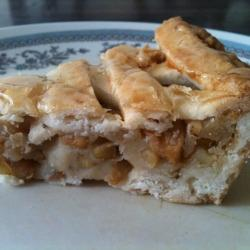apple_pie: (1, 16, 250, 210)
